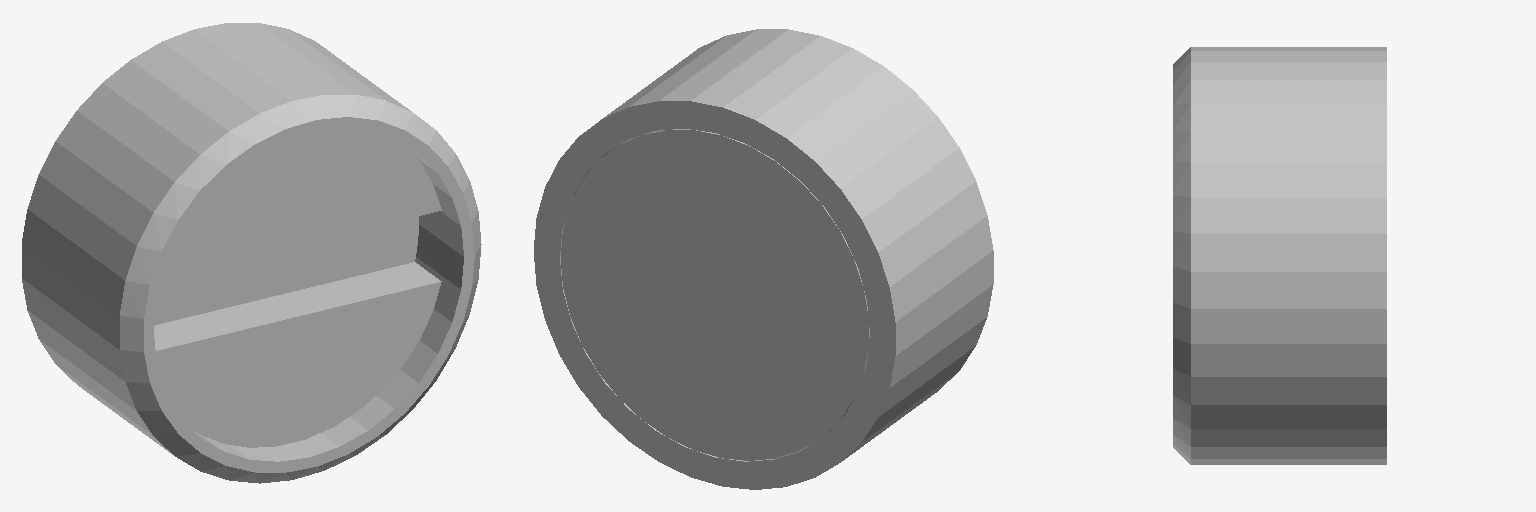
Rendered from Screw.obj.
3 views of the same model, side by side, from view 1: azimuth 30°, elevation 25°; view 2: azimuth 150°, elevation 25°; view 3: azimuth 270°, elevation 25° (orthographic).
Visible parts, largest first — view 1: Body001, Body; view 2: Body001, Body; view 3: Body001.
Part boxes in pixels (bbox=[...]): Body001: bbox=[22, 23, 481, 483]; Body: bbox=[154, 129, 441, 447]; Body001: bbox=[534, 29, 993, 489]; Body: bbox=[561, 129, 869, 460]; Body001: bbox=[1173, 47, 1386, 464].
Bounding box in the file's own units: 23.45 × 23.48 × 12.